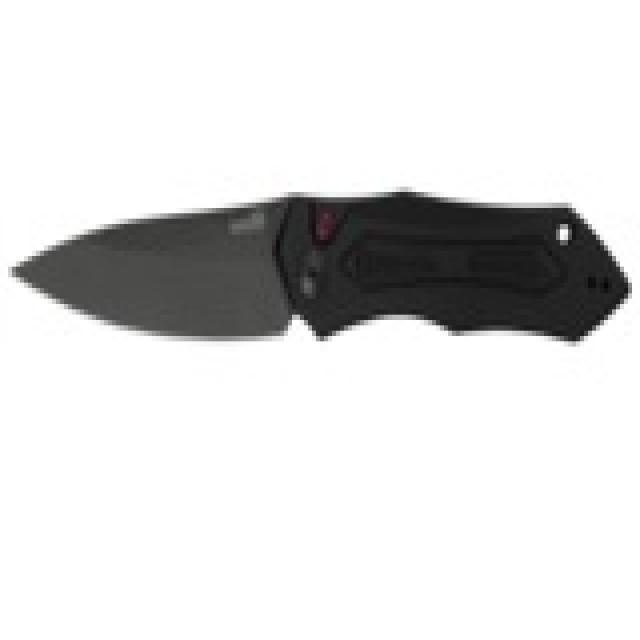Knife: (6, 166, 640, 373)
